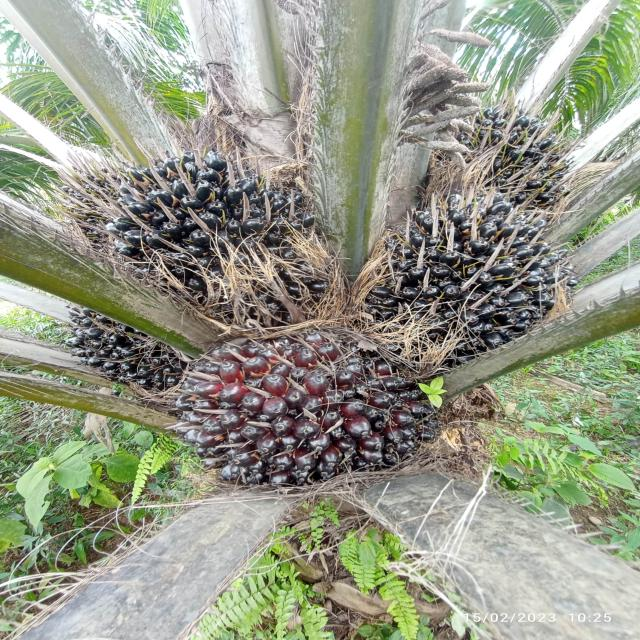fraksi 00: (140, 307, 486, 504), (47, 114, 323, 298), (348, 181, 594, 365), (429, 75, 587, 206), (41, 306, 186, 405)
